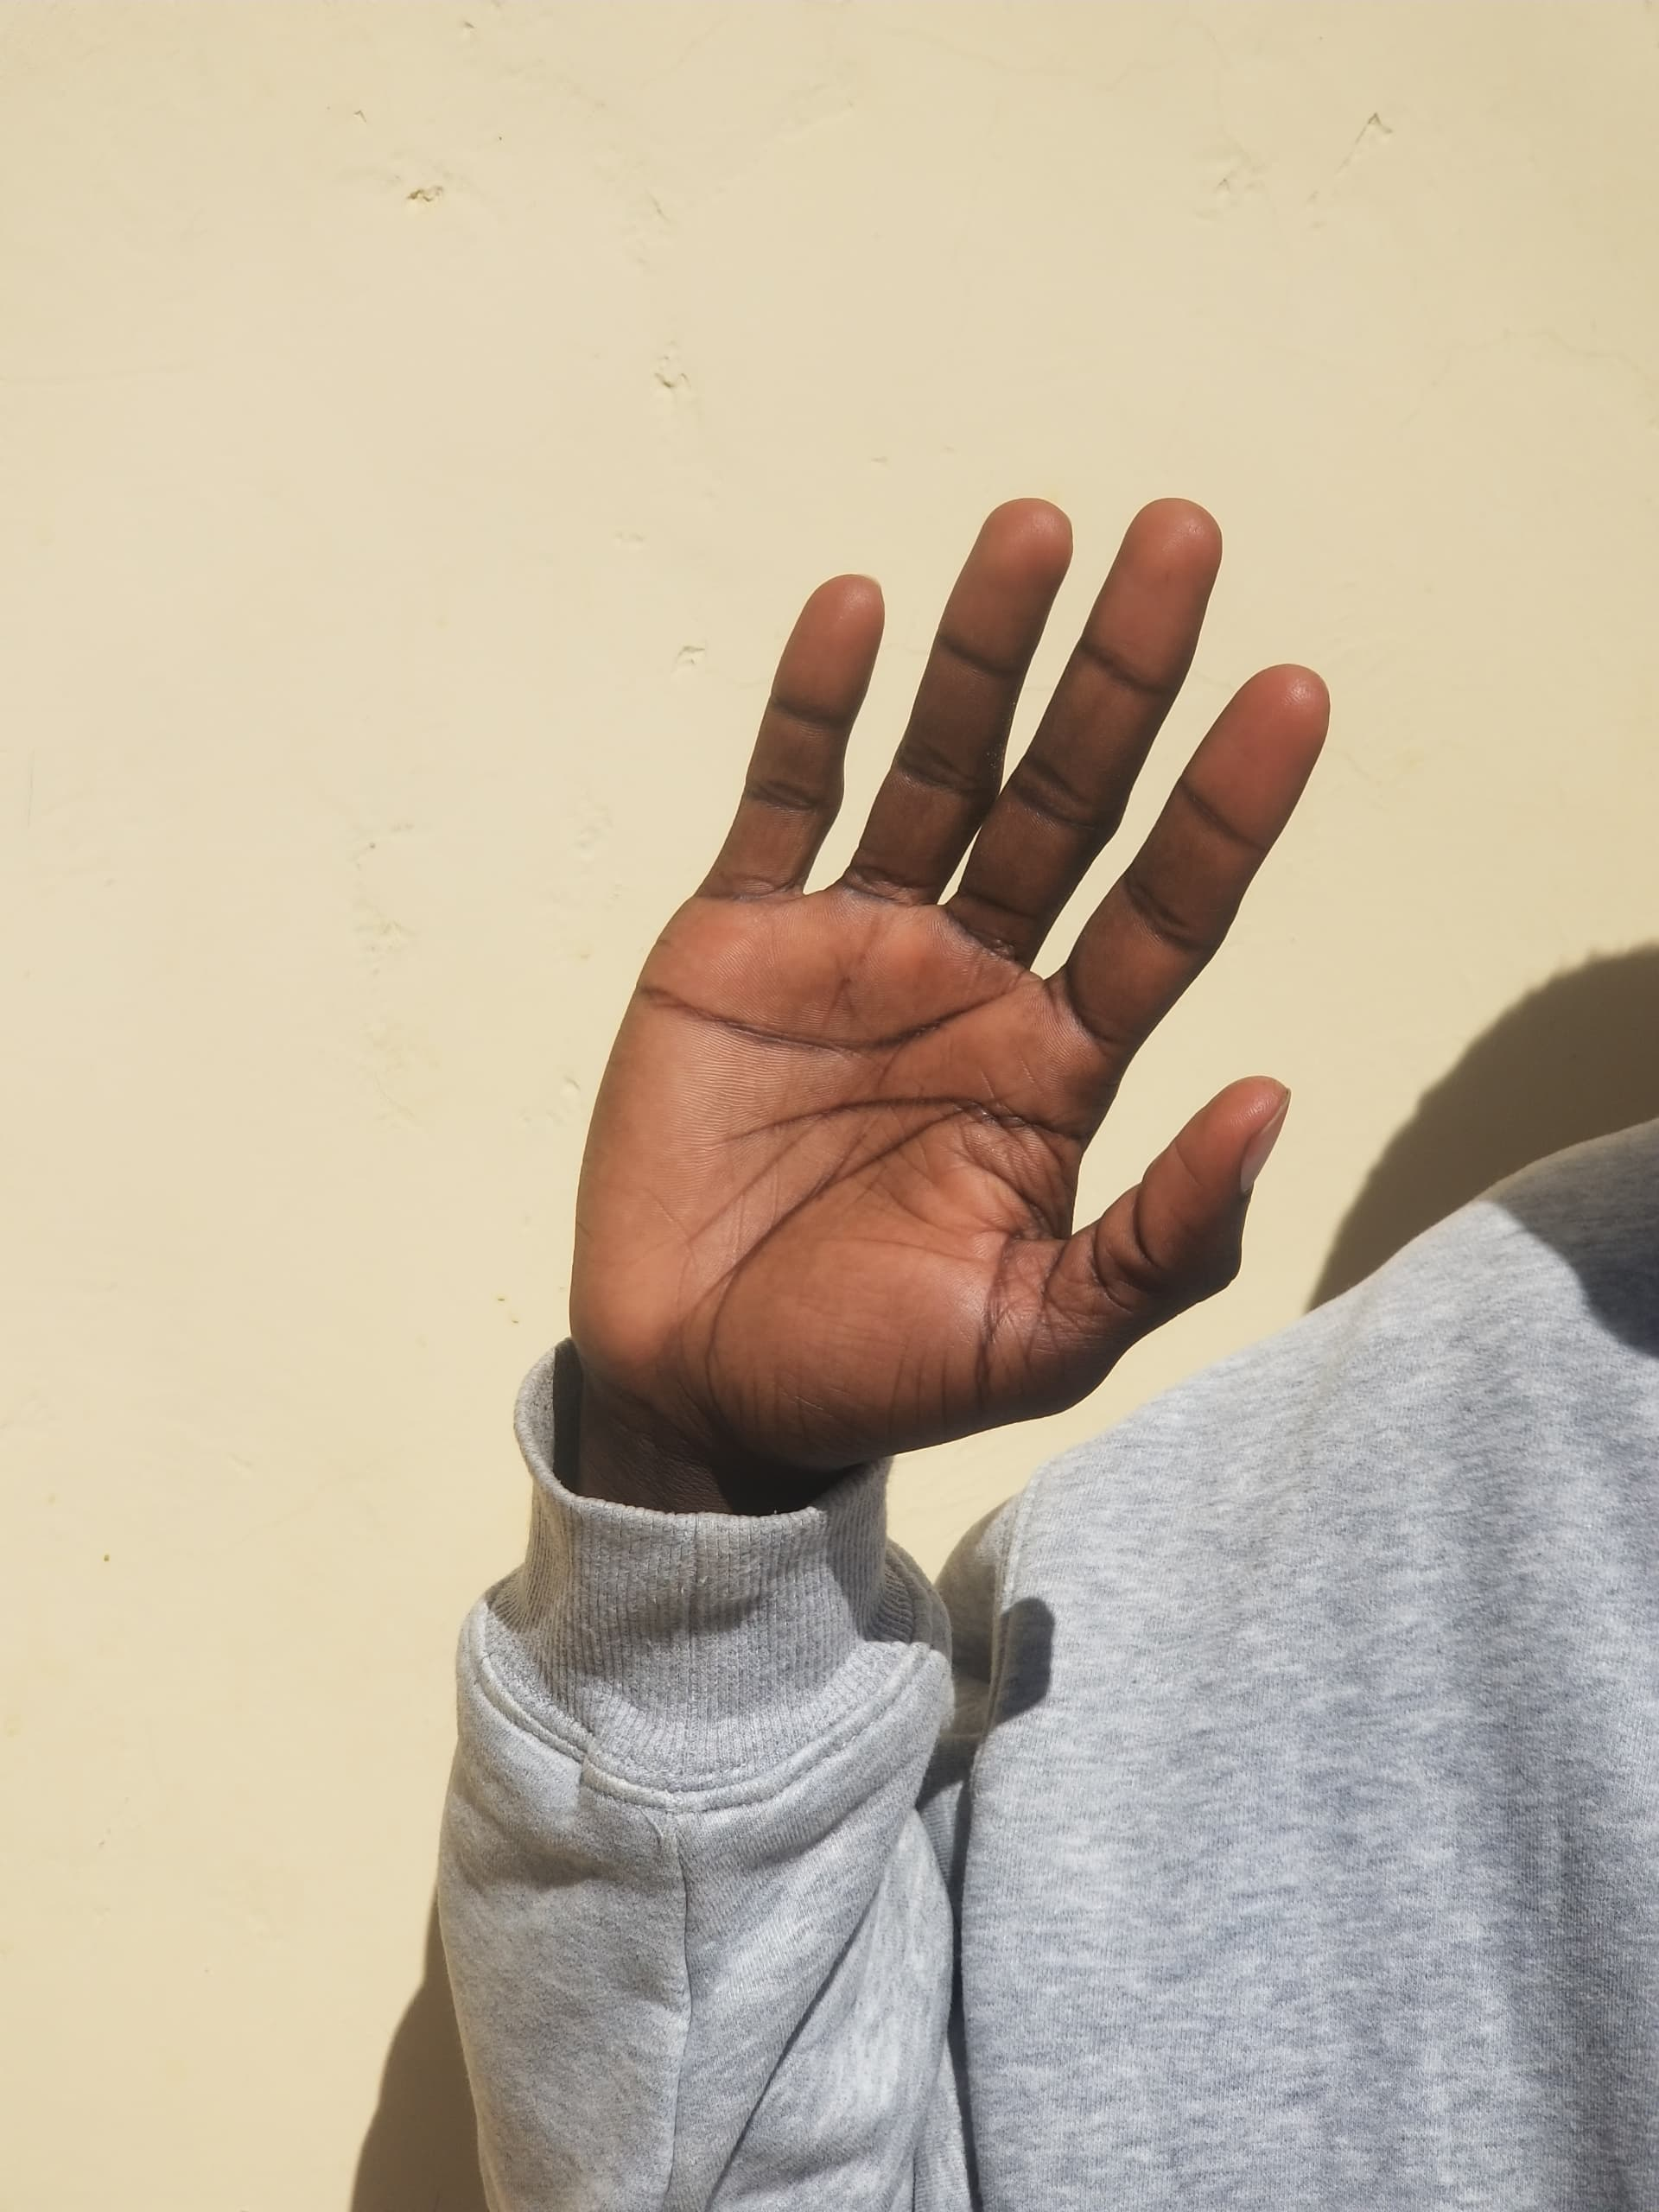hello: (474, 401, 1459, 1944)
